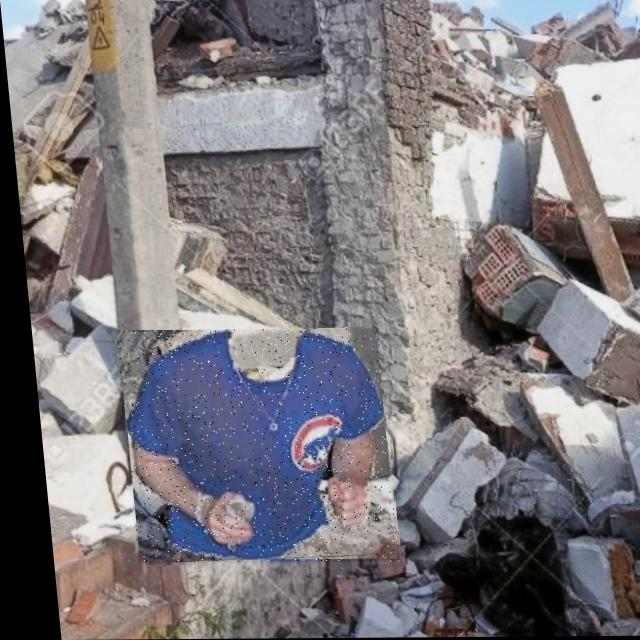Person in Rubble: (109, 329, 389, 565)
